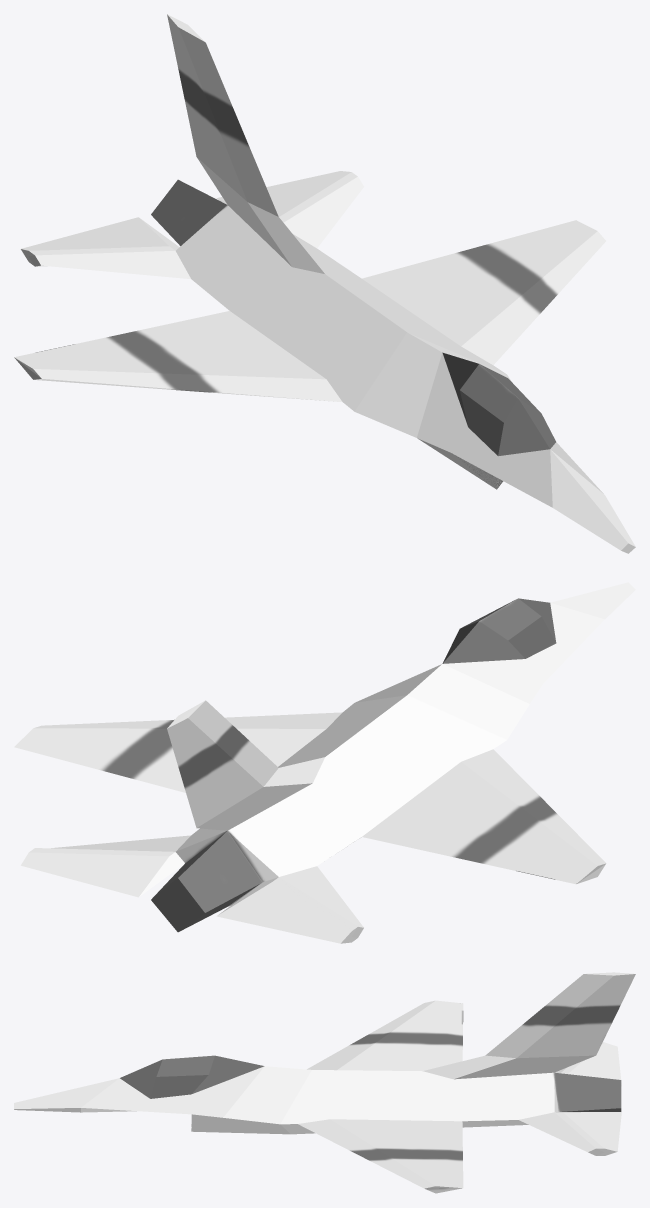
3 views of the same model, one above another, from view 1: azimuth 30°, elevation 25°; view 2: azimuth 150°, elevation 25°; view 3: azimuth 270°, elevation 25° (orthographic). The views are drawn at different scales.
Visible parts, largest first — view 1: f-16_meged; view 2: f-16_meged; view 3: f-16_meged.
Part boxes in pixels (x1,y1,x2,y2): f-16_meged: [14, 14, 635, 553]; f-16_meged: [14, 582, 635, 943]; f-16_meged: [14, 972, 635, 1193].
Bounding box in the file's own units: 2.1 × 0.8452 × 2.97.
1 material, 1 textured.
